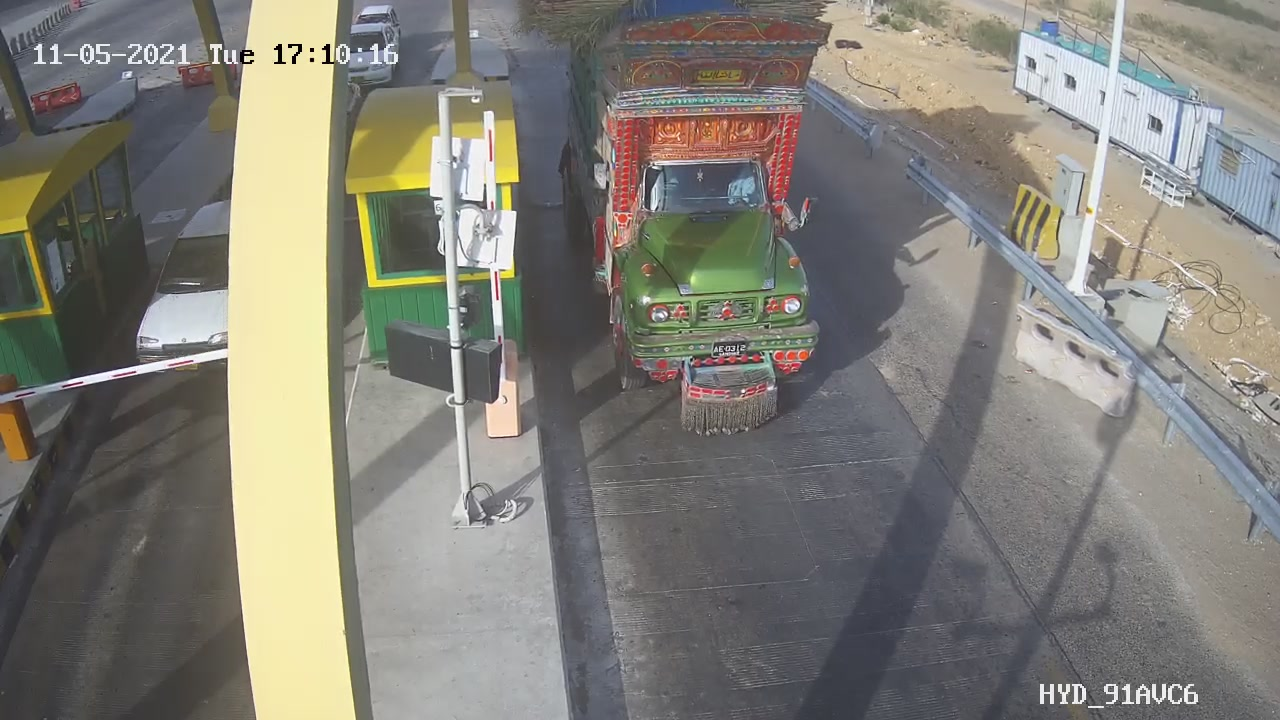F5: (533, 1, 876, 455)
